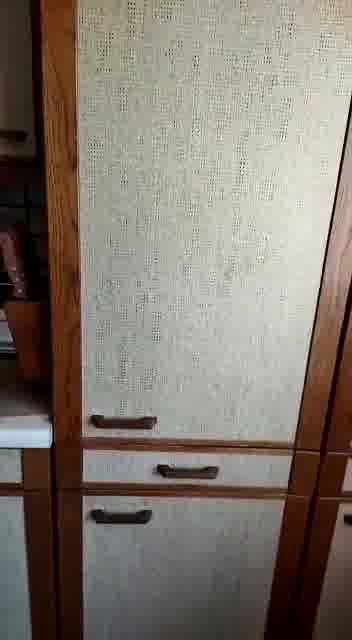cabinet_door: (48, 1, 352, 440), (56, 496, 311, 640), (56, 444, 322, 496)
handle: (87, 407, 160, 434), (89, 504, 156, 530), (152, 461, 221, 482)
